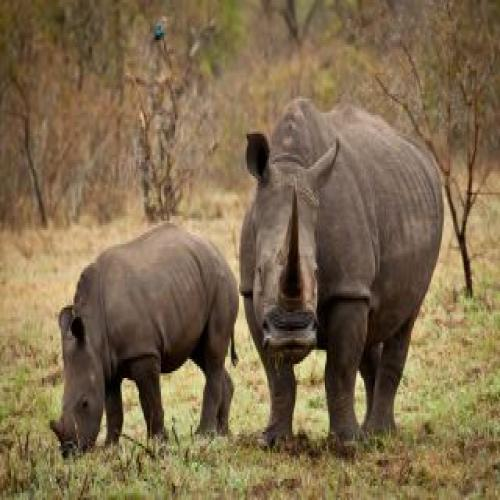rhino-endangered: (242, 96, 443, 455), (47, 217, 240, 461)
